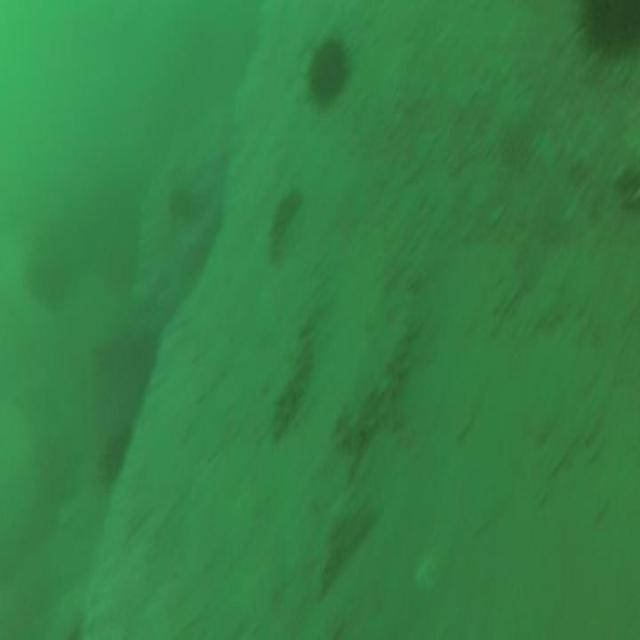echinus: (310, 41, 348, 103)
holothurian: (270, 327, 314, 435)
